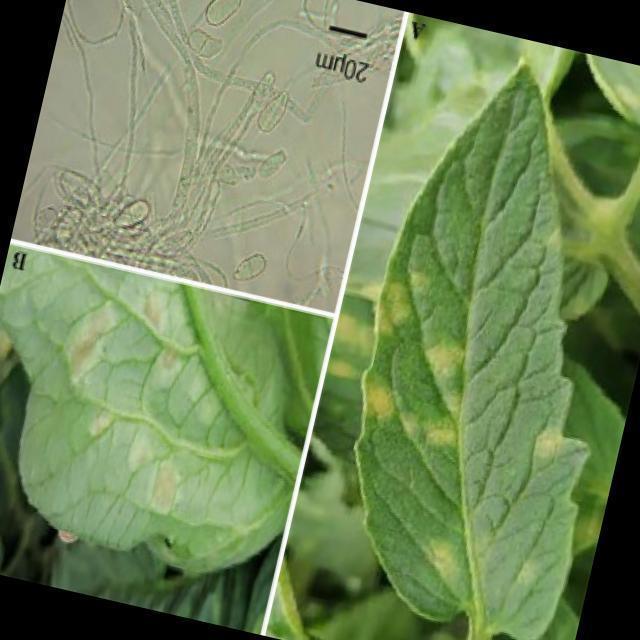Mosaic Virus: (320, 170, 626, 610), (0, 253, 266, 534)
